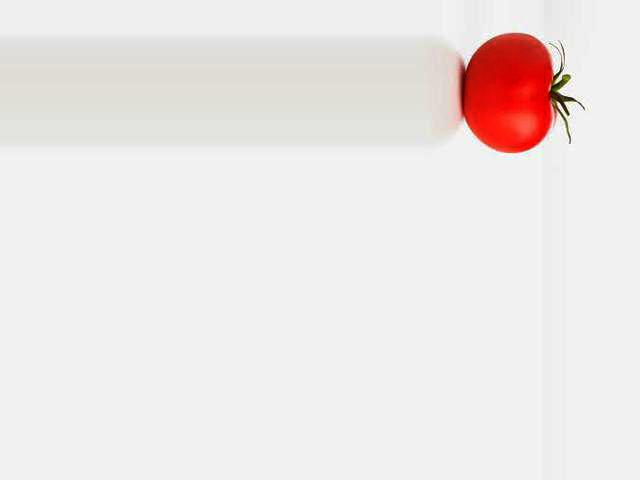tomato: (463, 34, 553, 153)
